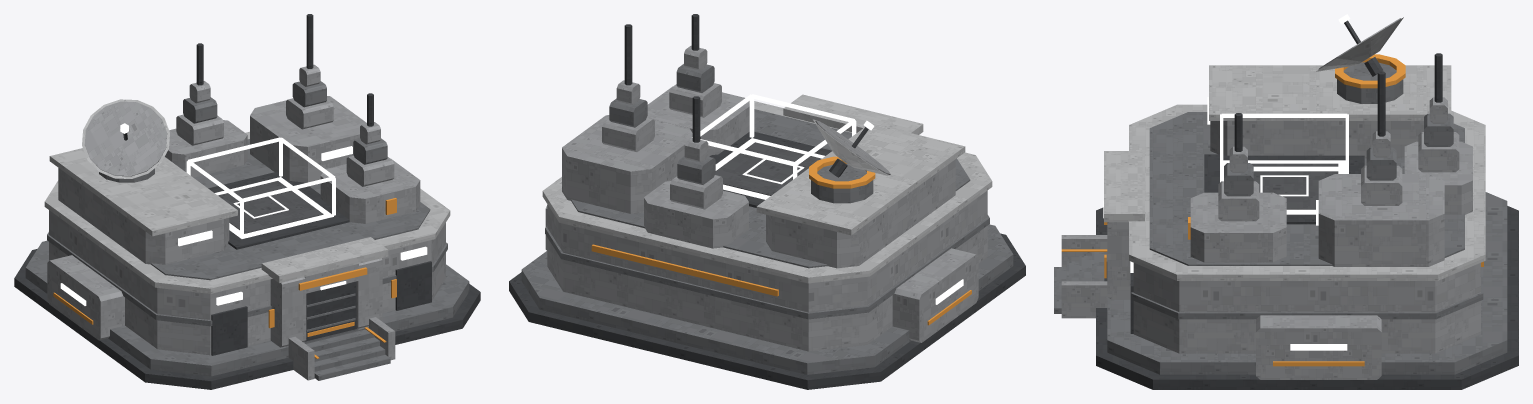
Rendered from storage_lod1.glb.
3 views of the same model, side by side, from view 1: azimuth 30°, elevation 25°; view 2: azimuth 150°, elevation 25°; view 3: azimuth 270°, elevation 25° (orthographic). The views are drawn at different scales.
Parts seen in each view (by area): view 1: storage_base_body.001, storage_dish_body.001, storage_hologram_glow.001, storage_door_body.001, storage_base_glow.001, storage_base_trim.001; view 2: storage_base_body.001, storage_hologram_glow.001, storage_base_trim.001, storage_dish_body.001; view 3: storage_base_body.001, storage_hologram_glow.001, storage_base_trim.001, storage_dish_body.001, storage_base_glow.001.
Part boxes in pixels (bbox=[...]): storage_base_body.001: bbox=[14, 14, 480, 389]; storage_dish_body.001: bbox=[82, 99, 169, 178]; storage_hologram_glow.001: bbox=[186, 137, 335, 238]; storage_door_body.001: bbox=[305, 281, 356, 341]; storage_base_glow.001: bbox=[60, 146, 427, 305]; storage_base_trim.001: bbox=[53, 198, 396, 358]; storage_base_body.001: bbox=[509, 14, 1025, 389]; storage_hologram_glow.001: bbox=[692, 94, 856, 199]; storage_base_trim.001: bbox=[591, 156, 971, 325]; storage_dish_body.001: bbox=[813, 119, 892, 177]; storage_base_body.001: bbox=[1054, 53, 1518, 389]; storage_hologram_glow.001: bbox=[1220, 113, 1348, 214]; storage_base_trim.001: bbox=[1061, 54, 1483, 366]; storage_dish_body.001: bbox=[1316, 17, 1403, 76]; storage_base_glow.001: bbox=[1103, 97, 1347, 350].
Bounding box in the file's own units: 4.05 × 2.65 × 4.06.
Materials: 3 (1 with a texture image).
